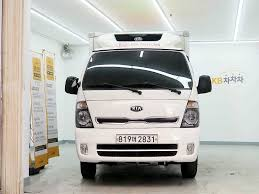car: (113, 132, 160, 144)
